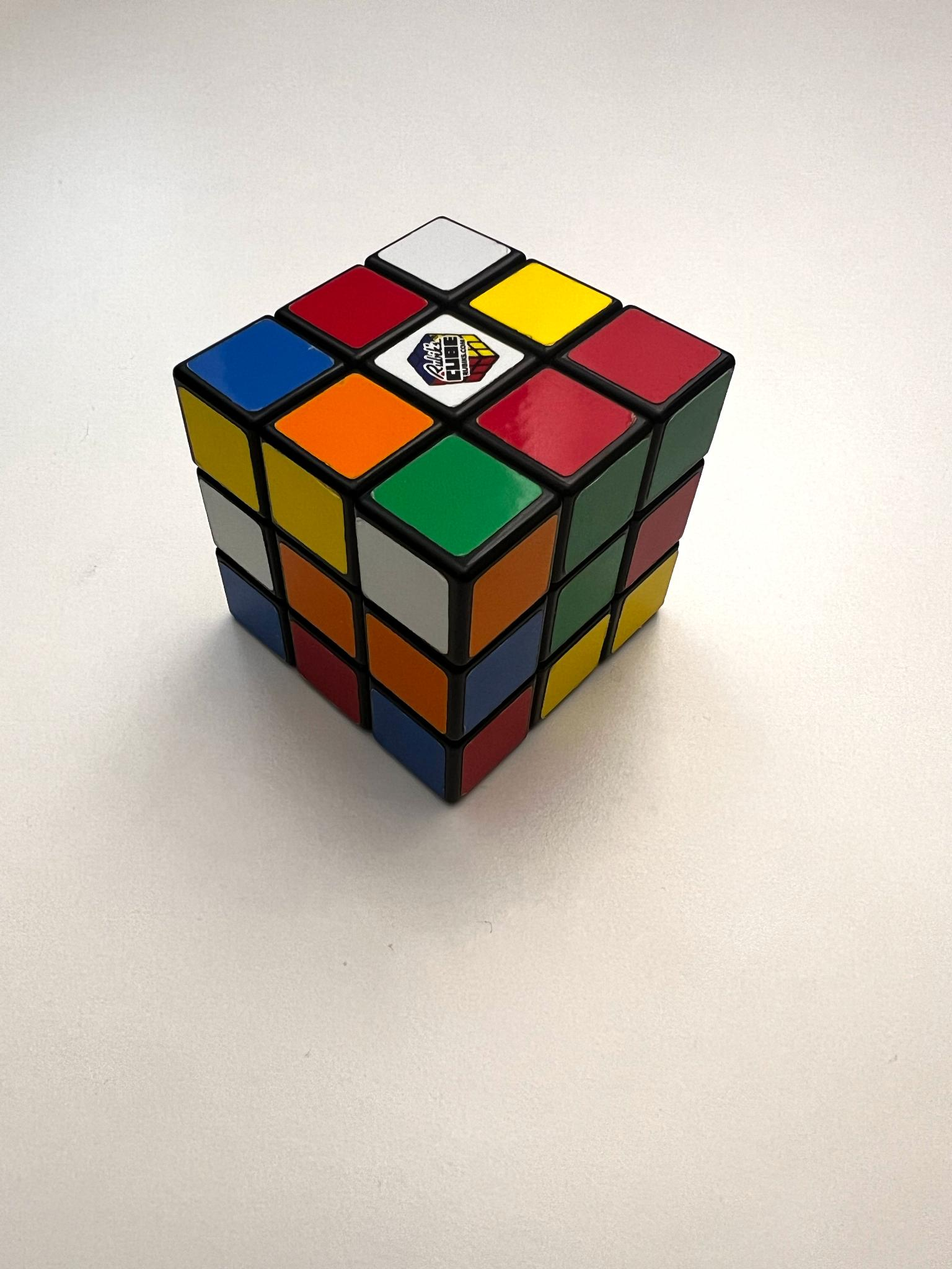rubiks_cube: (179, 218, 731, 798)
